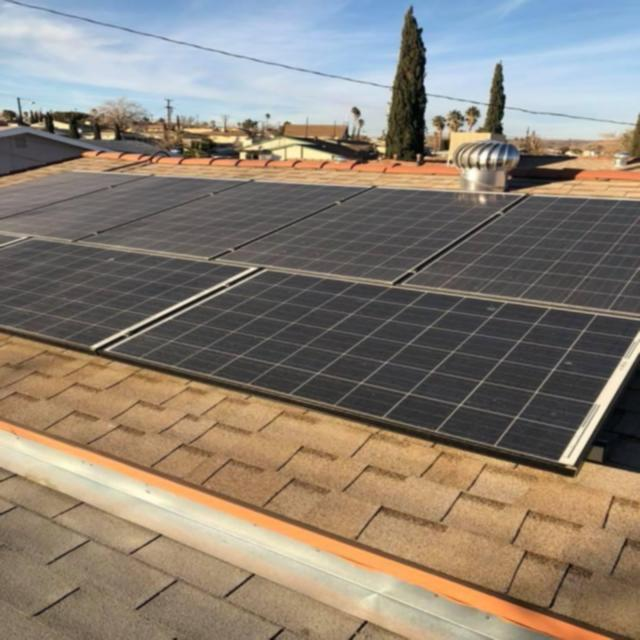soiled: (168, 271, 636, 463)
